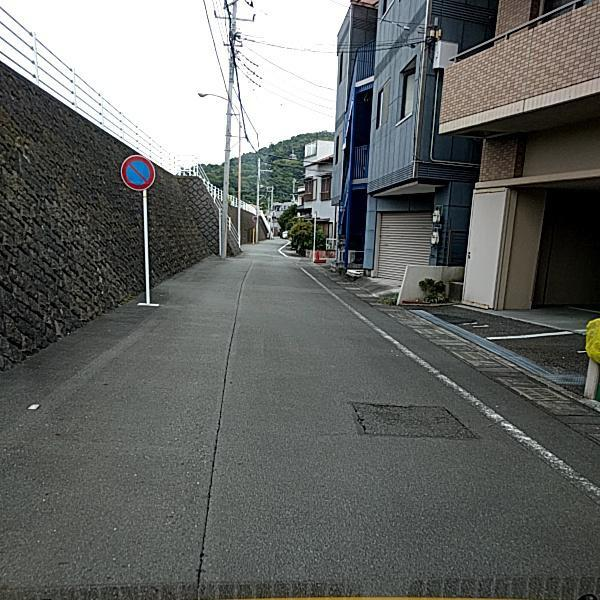D44: (314, 279, 598, 513)
